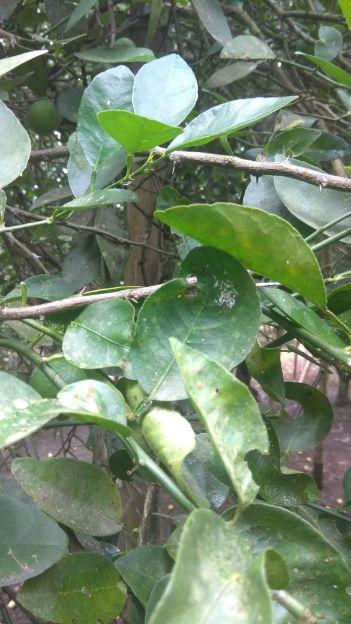Myzus persicae: (212, 274, 241, 311)
